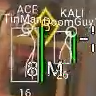hacks_1: (5, 5, 45, 96), (46, 8, 95, 80)
